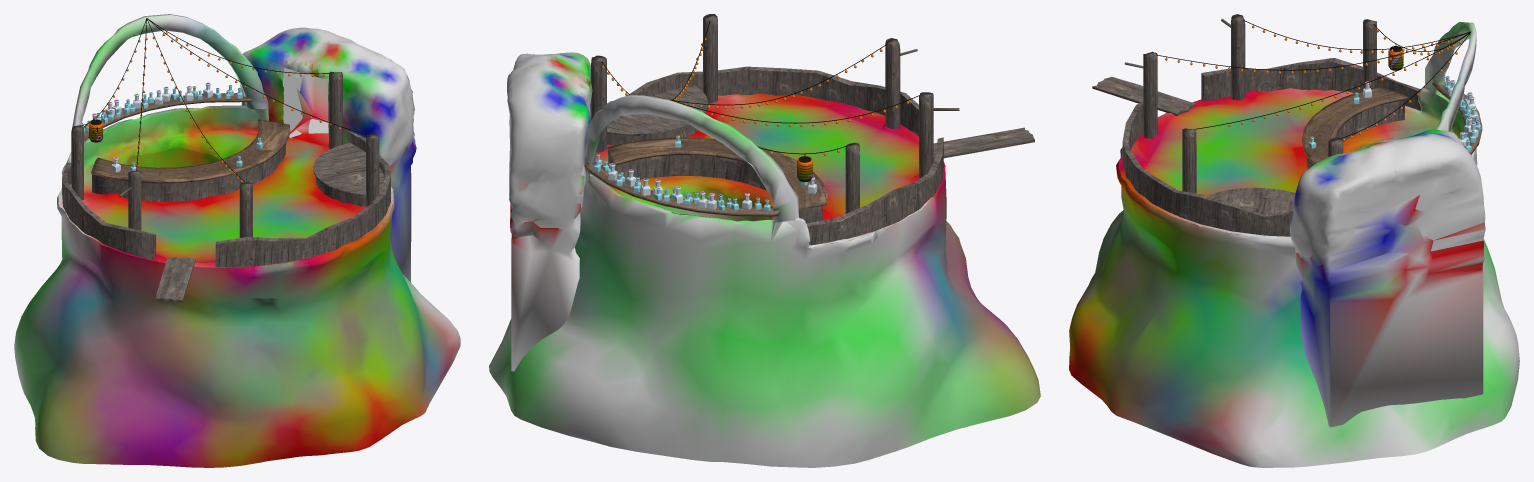
Rendered from floor-01-bar.fbx.
3 renders of one model, left to right at view 1: azimuth 30°, elevation 25°; view 2: azimuth 150°, elevation 25°; view 3: azimuth 270°, elevation 25°, orthographic. The views are drawn at different scales.
Parts seen in each view (by area): view 1: ground, floor, elevator-rock, fence, bar, stage, bridge, Log5, bar-shelf, Log4, Log1, Log2 (+2 smaller); view 2: ground, elevator-rock, floor, fence, bar, stage, bridge, bar-shelf, Log3, Log4, Log2, Log5 (+2 smaller); view 3: ground, elevator-rock, floor, fence, bar, stage, bridge, Log3, Log2, Log4, Log1, LightBulbs.
Boxes of the visible parts, x1,y1,x2,y2 form: ground: [14, 14, 460, 467]; floor: [58, 107, 393, 267]; elevator-rock: [240, 27, 416, 281]; fence: [62, 130, 390, 267]; bar: [91, 119, 290, 201]; stage: [313, 143, 384, 206]; bridge: [155, 257, 195, 302]; Log5: [329, 71, 342, 149]; bar-shelf: [84, 93, 252, 140]; Log4: [366, 133, 379, 207]; Log1: [71, 125, 83, 199]; Log2: [128, 170, 141, 230]; ground: [489, 95, 1040, 467]; elevator-rock: [507, 52, 592, 371]; floor: [595, 93, 945, 247]; fence: [590, 66, 943, 245]; bar: [608, 137, 827, 223]; stage: [607, 86, 707, 145]; bridge: [933, 127, 1034, 159]; bar-shelf: [584, 159, 780, 216]; Log3: [885, 38, 900, 128]; Log4: [703, 14, 717, 103]; Log2: [919, 92, 933, 178]; Log5: [591, 55, 606, 152]; ground: [1069, 22, 1519, 467]; elevator-rock: [1290, 129, 1485, 427]; floor: [1118, 87, 1464, 239]; fence: [1122, 58, 1421, 236]; bar: [1302, 86, 1407, 168]; stage: [1207, 187, 1295, 215]; bridge: [1092, 76, 1195, 115]; Log3: [1143, 51, 1157, 138]; Log2: [1231, 14, 1245, 100]; Log4: [1182, 128, 1196, 193]; Log1: [1363, 19, 1376, 88]; LightBulbs: [1165, 25, 1461, 141].
Bounding box in the file's own units: 1612 × 1092 × 1374.
